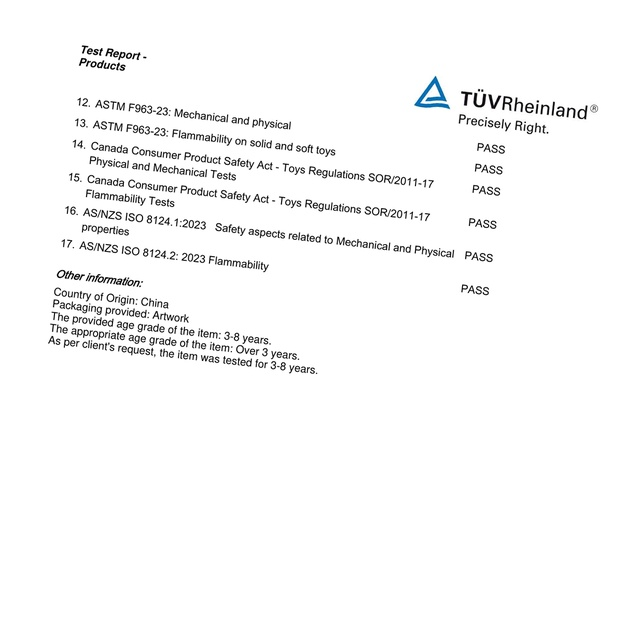tuv_rheinland: (415, 74, 599, 121)
